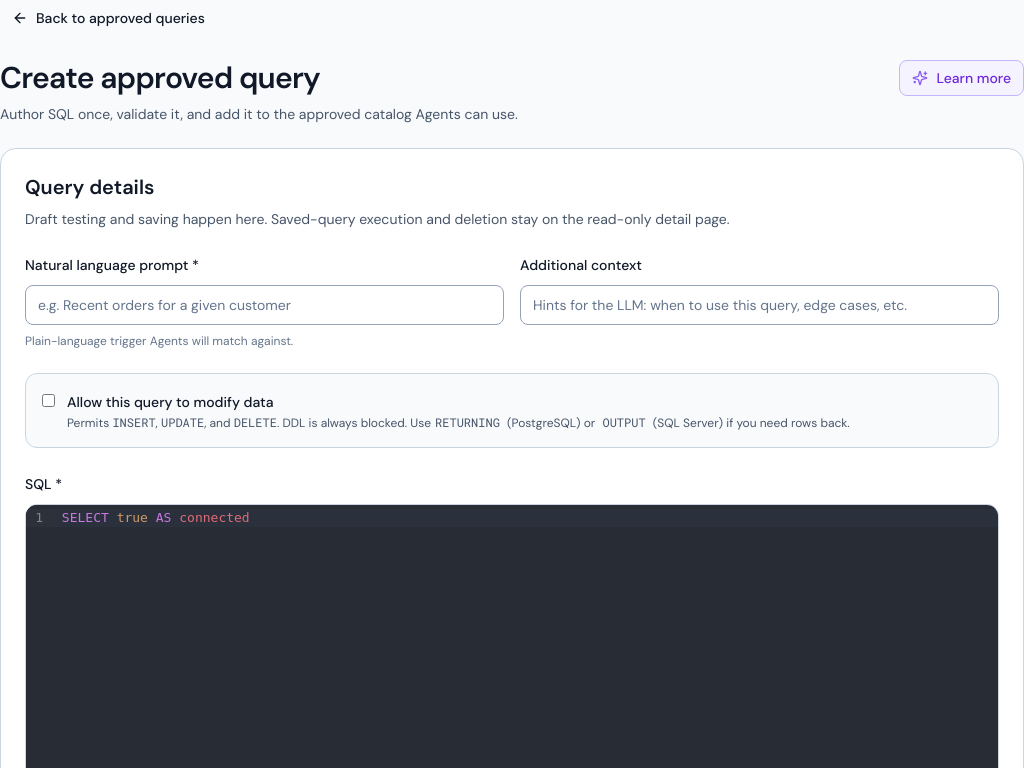
Test case: QueryEditorPage › creates a query and redirects to the detail route
In the field labelled "Natural language prompt *": x=264, y=305 25,285 -> 504,325, type "Customer connectivity check"
(page scrolled)
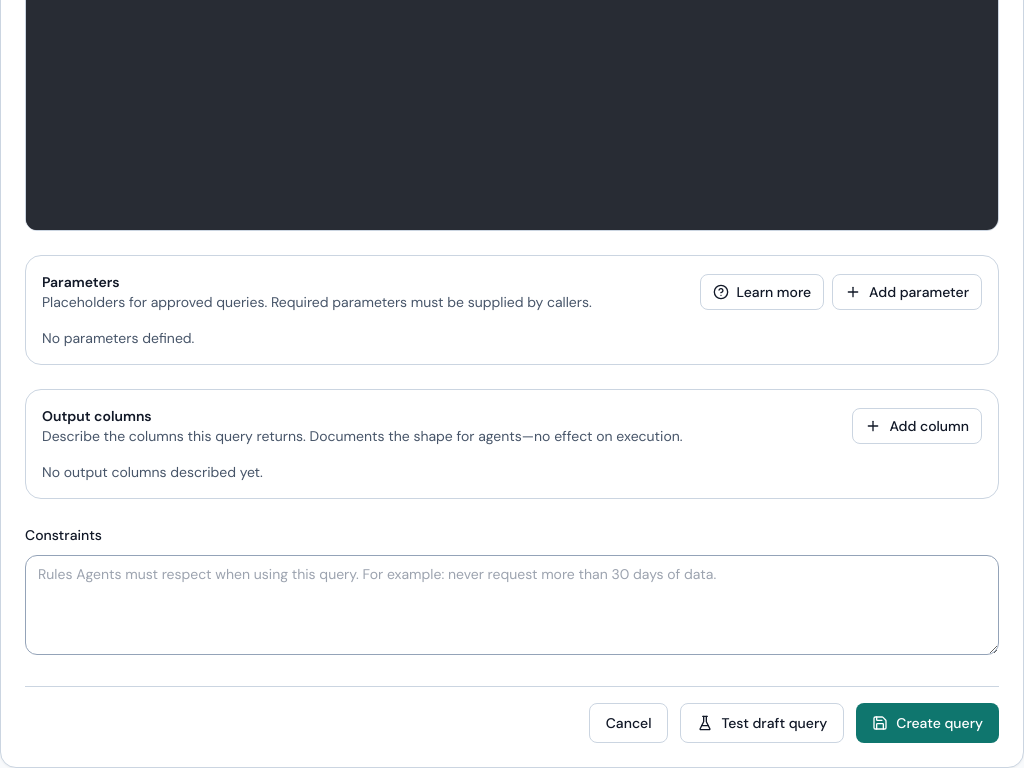
Click the button "Create query": x=928, y=723 856,703 -> 999,743
(page scrolled)
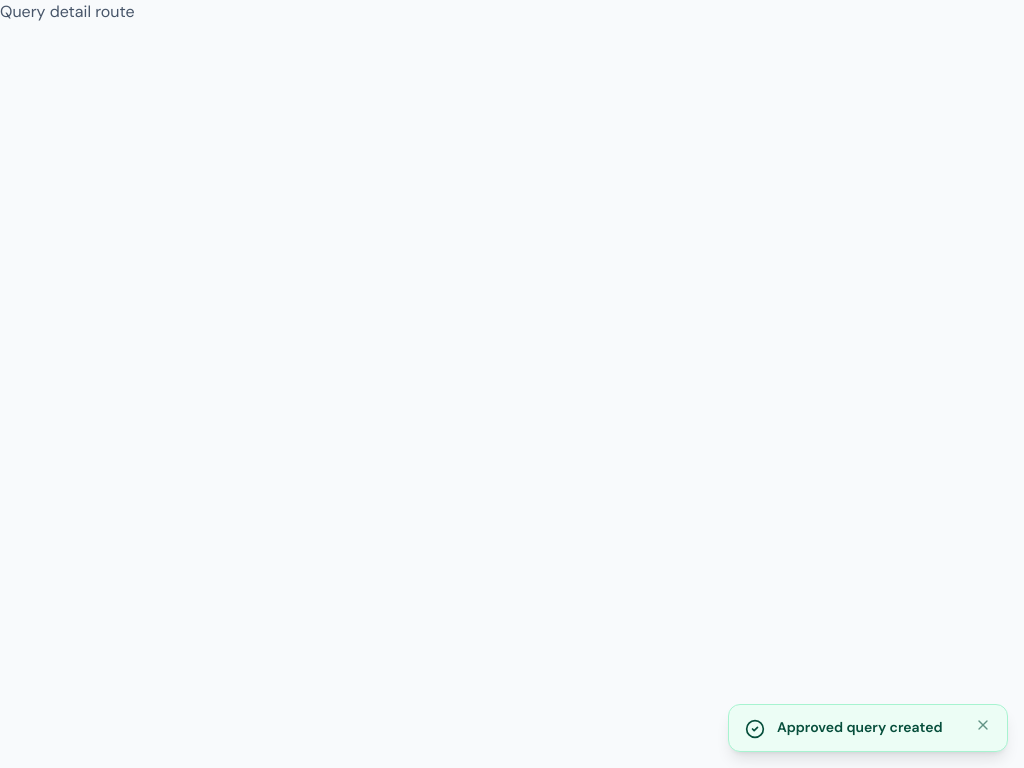
Now the text "Query detail route" is shown, box 0,1 -> 135,22
